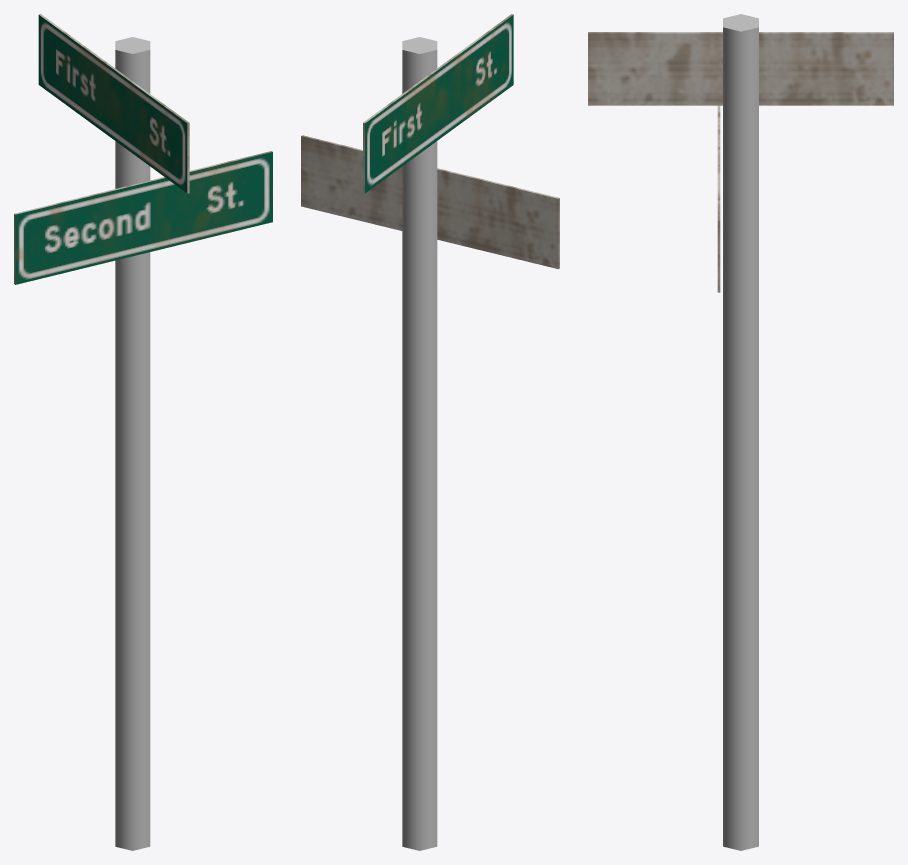
File: trafficSign_stName.fbx
3 views of the same model, side by side, from view 1: azimuth 30°, elevation 25°; view 2: azimuth 150°, elevation 25°; view 3: azimuth 270°, elevation 25° (orthographic). The views are drawn at different scales.
Visible parts, largest first — view 1: trafficSign_stName, trafficSign_stName02, trafficSign_stName01; view 2: trafficSign_stName, trafficSign_stName02, trafficSign_stName01; view 3: trafficSign_stName, trafficSign_stName01, trafficSign_stName02.
Boxes of the visible parts, x1,y1,x2,y2 form: trafficSign_stName: (115,37,150,850); trafficSign_stName02: (14,151,272,284); trafficSign_stName01: (38,14,189,193); trafficSign_stName: (402,37,437,850); trafficSign_stName02: (301,135,559,269); trafficSign_stName01: (363,14,513,193); trafficSign_stName: (723,14,758,850); trafficSign_stName01: (588,32,893,105); trafficSign_stName02: (717,105,720,292).
Bounding box in the file's own units: 115 × 340 × 115.
